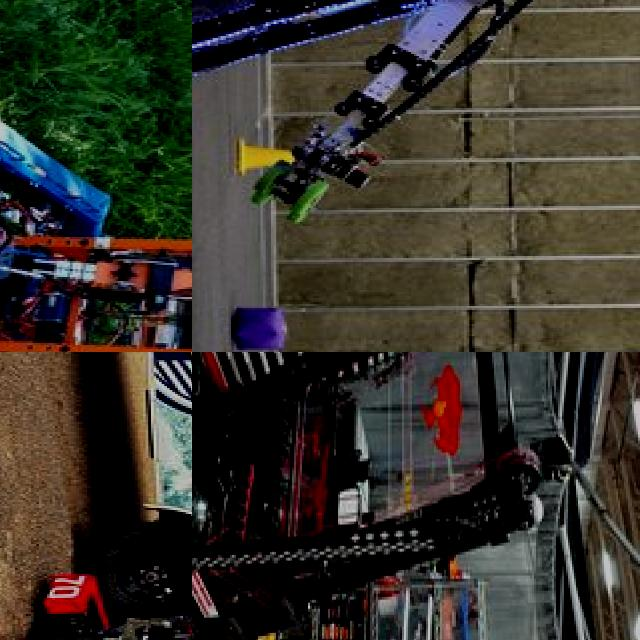FRC-Robots: (192, 352, 532, 640), (192, 0, 573, 238), (0, 13, 192, 352), (0, 552, 192, 640)
